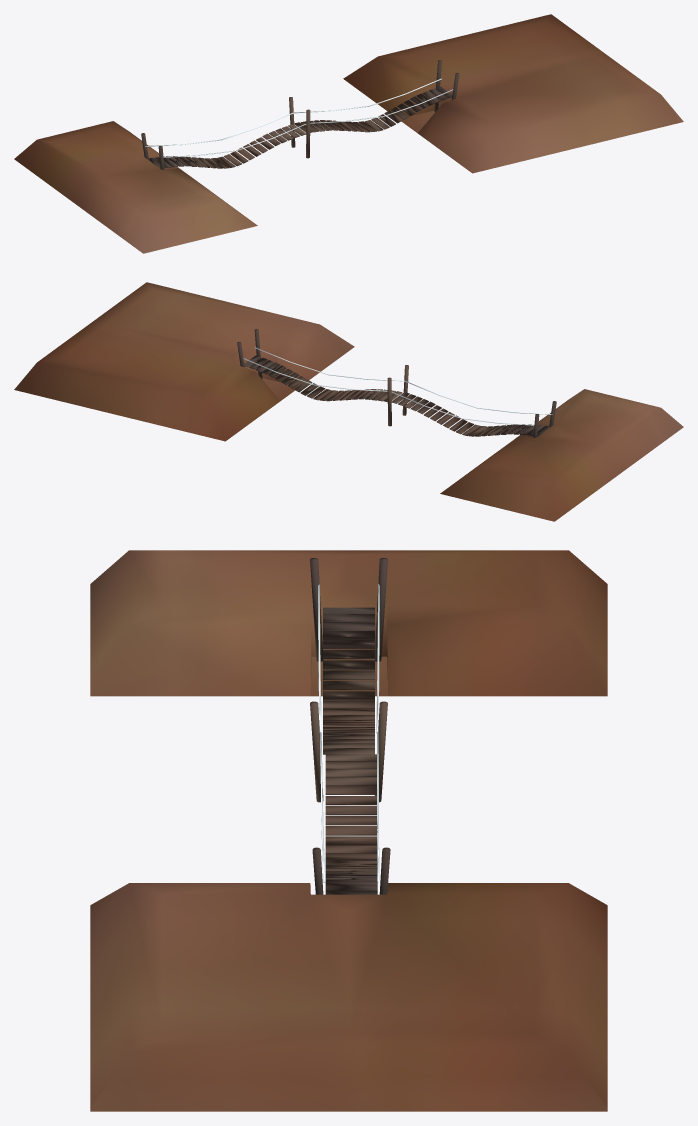
File: WoodenRopeWavyBridgeWithLand.glb
3 views of the same model, one above another, from view 1: azimuth 30°, elevation 25°; view 2: azimuth 150°, elevation 25°; view 3: azimuth 270°, elevation 25° (orthographic). The views are drawn at different scales.
Visible parts, largest first — view 1: WoodenRopeWavyBridgeWithLand; view 2: WoodenRopeWavyBridgeWithLand; view 3: WoodenRopeWavyBridgeWithLand.
Boxes of the visible parts, x1,y1,x2,y2 form: WoodenRopeWavyBridgeWithLand: [14, 14, 683, 253]; WoodenRopeWavyBridgeWithLand: [14, 282, 683, 521]; WoodenRopeWavyBridgeWithLand: [90, 550, 607, 1111].
Size of the model in its own units: 32.03 by 2.74 by 13.28.
1 material, 1 textured.
